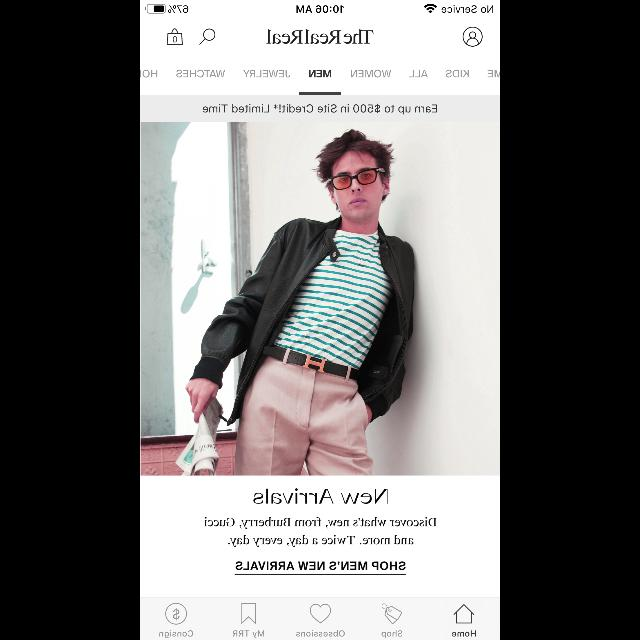icon: (166, 604, 187, 624), (462, 27, 482, 47), (382, 604, 402, 624), (310, 604, 330, 622), (454, 604, 474, 622), (242, 602, 256, 624), (167, 29, 183, 45), (199, 29, 215, 45)
image: (140, 95, 500, 475)
text: (204, 517, 436, 547), (203, 104, 437, 115), (254, 488, 388, 504), (266, 30, 374, 44), (236, 562, 406, 570), (177, 70, 225, 78), (243, 70, 290, 78), (351, 70, 391, 78), (296, 630, 344, 636), (159, 630, 193, 638), (233, 630, 264, 638), (446, 70, 468, 78), (382, 630, 402, 638), (452, 630, 476, 636), (309, 70, 331, 76), (409, 70, 427, 76)
uppertaskbar: (140, 0, 500, 14)
